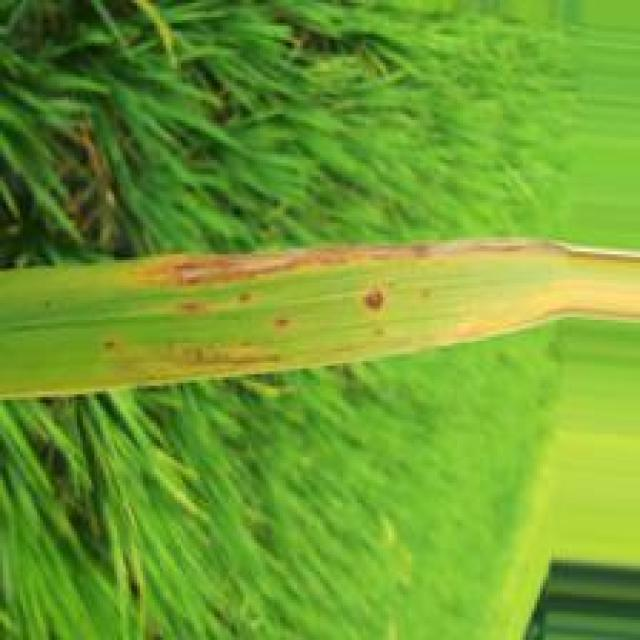Leaf_Blast: (128, 238, 574, 287), (355, 279, 393, 317), (274, 319, 289, 331)
